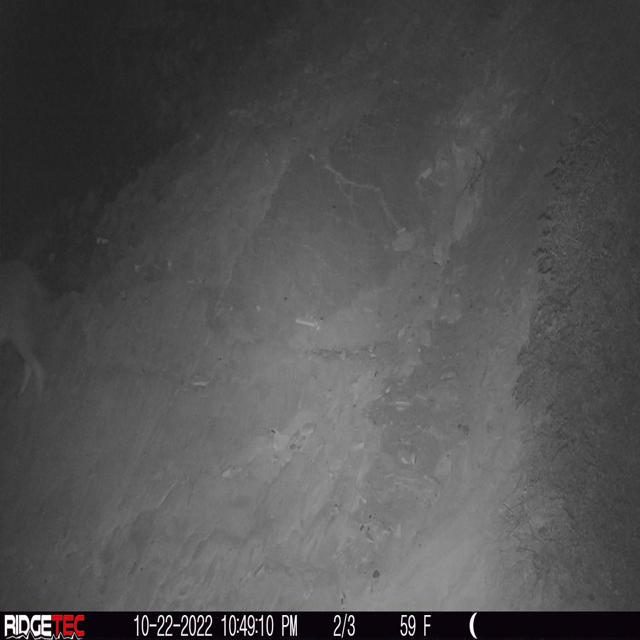coyote: (0, 257, 51, 427)
